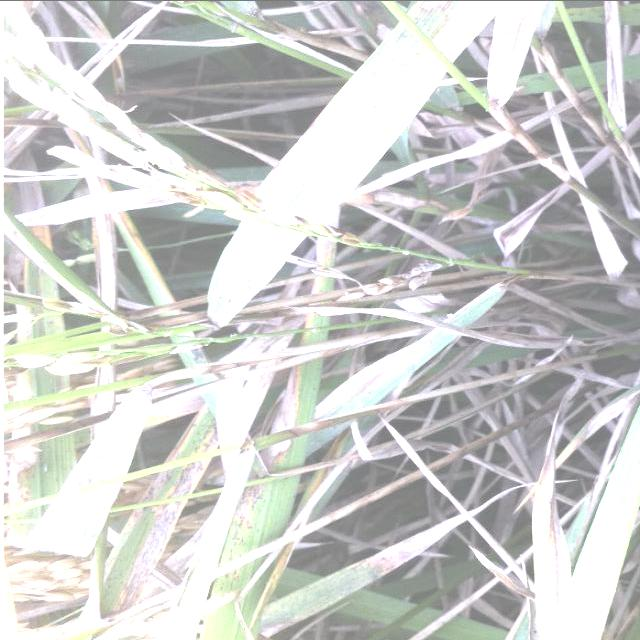Bacterial_Leaf_Blight: (262, 0, 508, 270), (103, 404, 220, 615), (16, 382, 153, 553), (157, 443, 255, 640), (232, 364, 312, 524), (313, 338, 434, 416)
